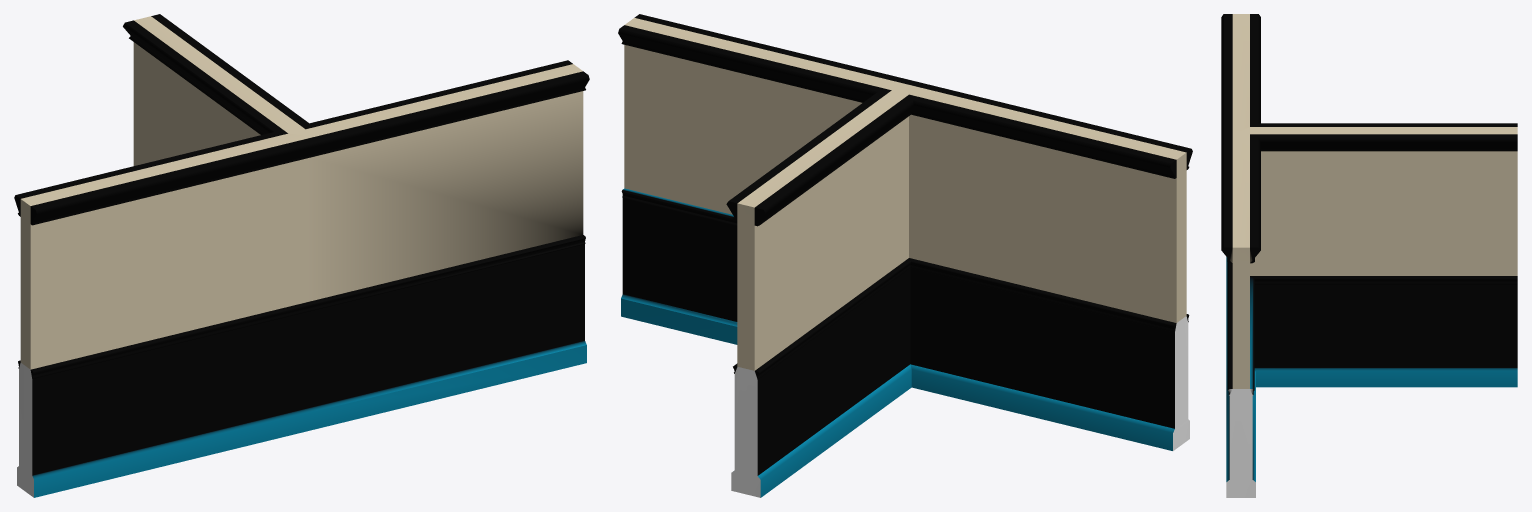
File: Classic_Wall_Joint.fbx
The picture shows the model from 3 angles, left to right: view 1: azimuth 30°, elevation 25°; view 2: azimuth 150°, elevation 25°; view 3: azimuth 270°, elevation 25°; orthographic projection. The views are drawn at different scales.
Parts seen in each view (by area): view 1: Classic_Wall_Joint_LOD00; view 2: Classic_Wall_Joint_LOD00; view 3: Classic_Wall_Joint_LOD00.
Boxes of the visible parts, bbox=[...] form: Classic_Wall_Joint_LOD00: bbox=[14, 14, 589, 497]; Classic_Wall_Joint_LOD00: bbox=[618, 14, 1192, 497]; Classic_Wall_Joint_LOD00: bbox=[1221, 14, 1517, 497].
Size of what is drawn, in the model's own units: 600 by 300 by 321.
